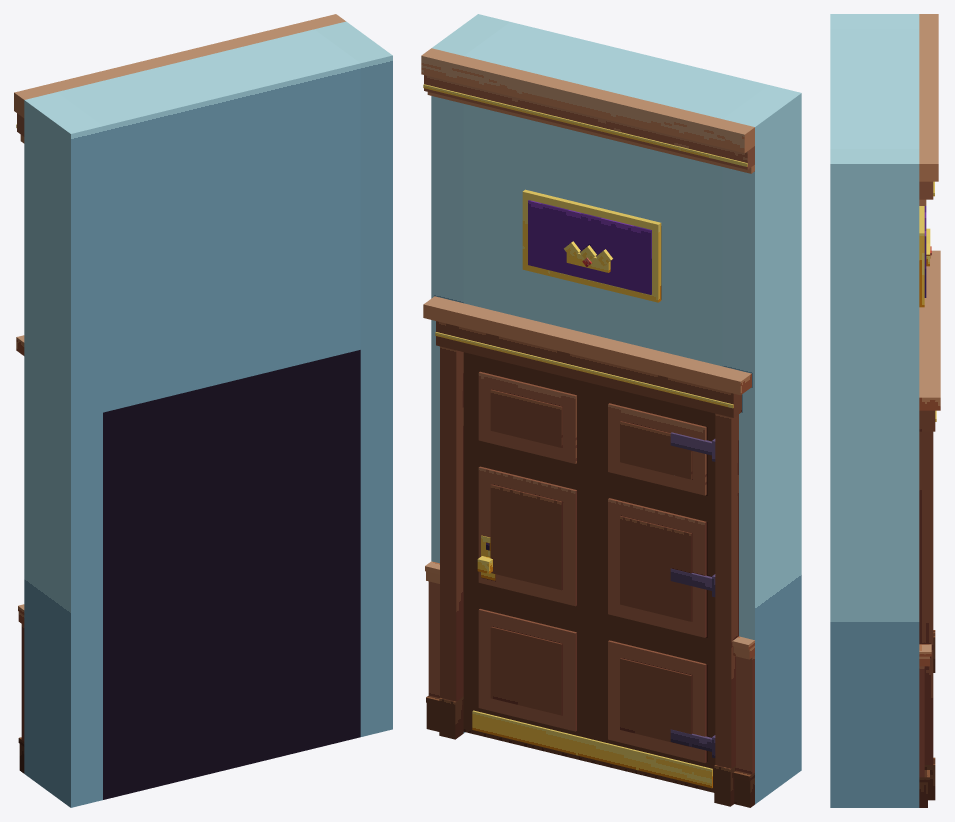
The model's file is door_entrance.gltf.
3 renders of one model, left to right at view 1: azimuth 30°, elevation 25°; view 2: azimuth 150°, elevation 25°; view 3: azimuth 270°, elevation 25°, orthographic. The views are drawn at different scales.
Visible parts, largest first — view 1: void_dark, plaster_over, plaster_pier_left, plaster_pier_right, wood_crown_top; view 2: plaster_over, plaster_pier_left, wood_leaf_dark, plaster_pier_right, wood_crown_top, wood_casing_dark_right, wood_cornice_light, wood_casing_dark_left, purple_plaque, wood_casing_head_dark, wood_leaf_inset1r, wood_leaf_inset1l (+20 smaller); view 3: plaster_pier_right, plaster_over, wood_casing_dark_right, wood_crown_top, wood_cornice_light, plaster_pier_left, wood_board_right, gold_plaque_rim, wood_casing_head_dark, wood_plinth_deep_right, wood_crown_cove, purple_plaque (+1 smaller).
Boxes of the visible parts, left/top/right/bottom form: void_dark: left=103, top=350, right=360, bottom=799; plaster_over: left=57, top=29, right=360, bottom=412; plaster_pier_left: left=24, top=92, right=102, bottom=807; plaster_pier_right: left=314, top=21, right=392, bottom=736; wood_crown_top: left=14, top=14, right=345, bottom=117; plaster_over: left=463, top=22, right=768, bottom=366; plaster_pier_left: left=722, top=85, right=801, bottom=804; wood_leaf_dark: left=463, top=352, right=715, bottom=792; plaster_pier_right: left=431, top=14, right=509, bottom=732; wood_crown_top: left=421, top=48, right=754, bottom=153; wood_casing_dark_right: left=440, top=346, right=463, bottom=701; wood_cornice_light: left=423, top=296, right=751, bottom=395; wood_casing_dark_left: left=715, top=413, right=738, bottom=768; purple_plaque: left=528, top=200, right=651, bottom=294; wood_casing_head_dark: left=436, top=321, right=741, bottom=417; wood_leaf_inset1r: left=490, top=484, right=562, bottom=590; wood_leaf_inset1l: left=620, top=516, right=692, bottom=621; plaster_pier_right: left=830, top=149, right=919, bottom=807; plaster_over: left=830, top=29, right=919, bottom=148; wood_casing_dark_right: left=919, top=431, right=933, bottom=764; wood_crown_top: left=919, top=14, right=938, bottom=181; wood_cornice_light: left=919, top=250, right=940, bottom=410; plaster_pier_left: left=830, top=14, right=919, bottom=28; wood_board_right: left=919, top=666, right=924, bottom=777; gold_plaque_rim: left=919, top=206, right=924, bottom=307; wood_casing_head_dark: left=919, top=410, right=935, bottom=431; wood_plinth_deep_right: left=924, top=757, right=935, bottom=800; wood_crown_cove: left=919, top=181, right=933, bottom=199; purple_plaque: left=924, top=206, right=926, bottom=297.
Bounding box in the file's own units: 2 × 4 × 0.62.
4 materials, 4 textured.
